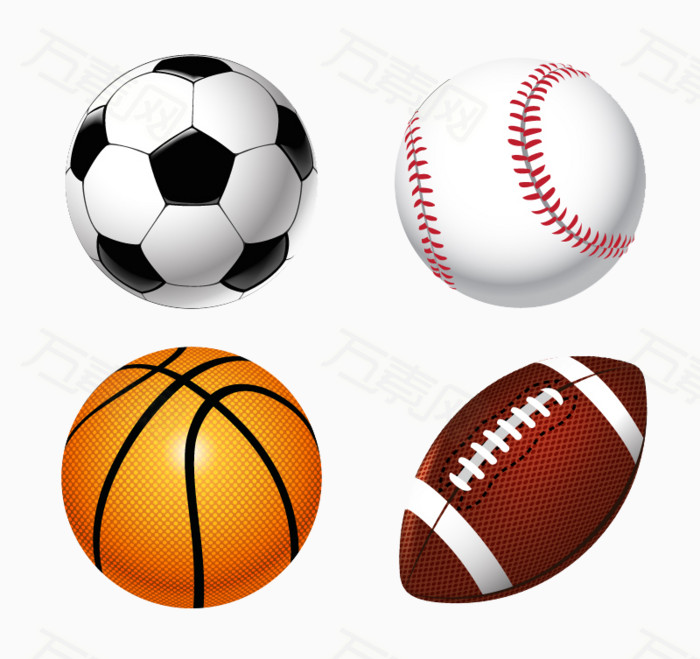ball: (60, 346, 324, 608), (64, 53, 317, 309), (395, 59, 645, 308)
